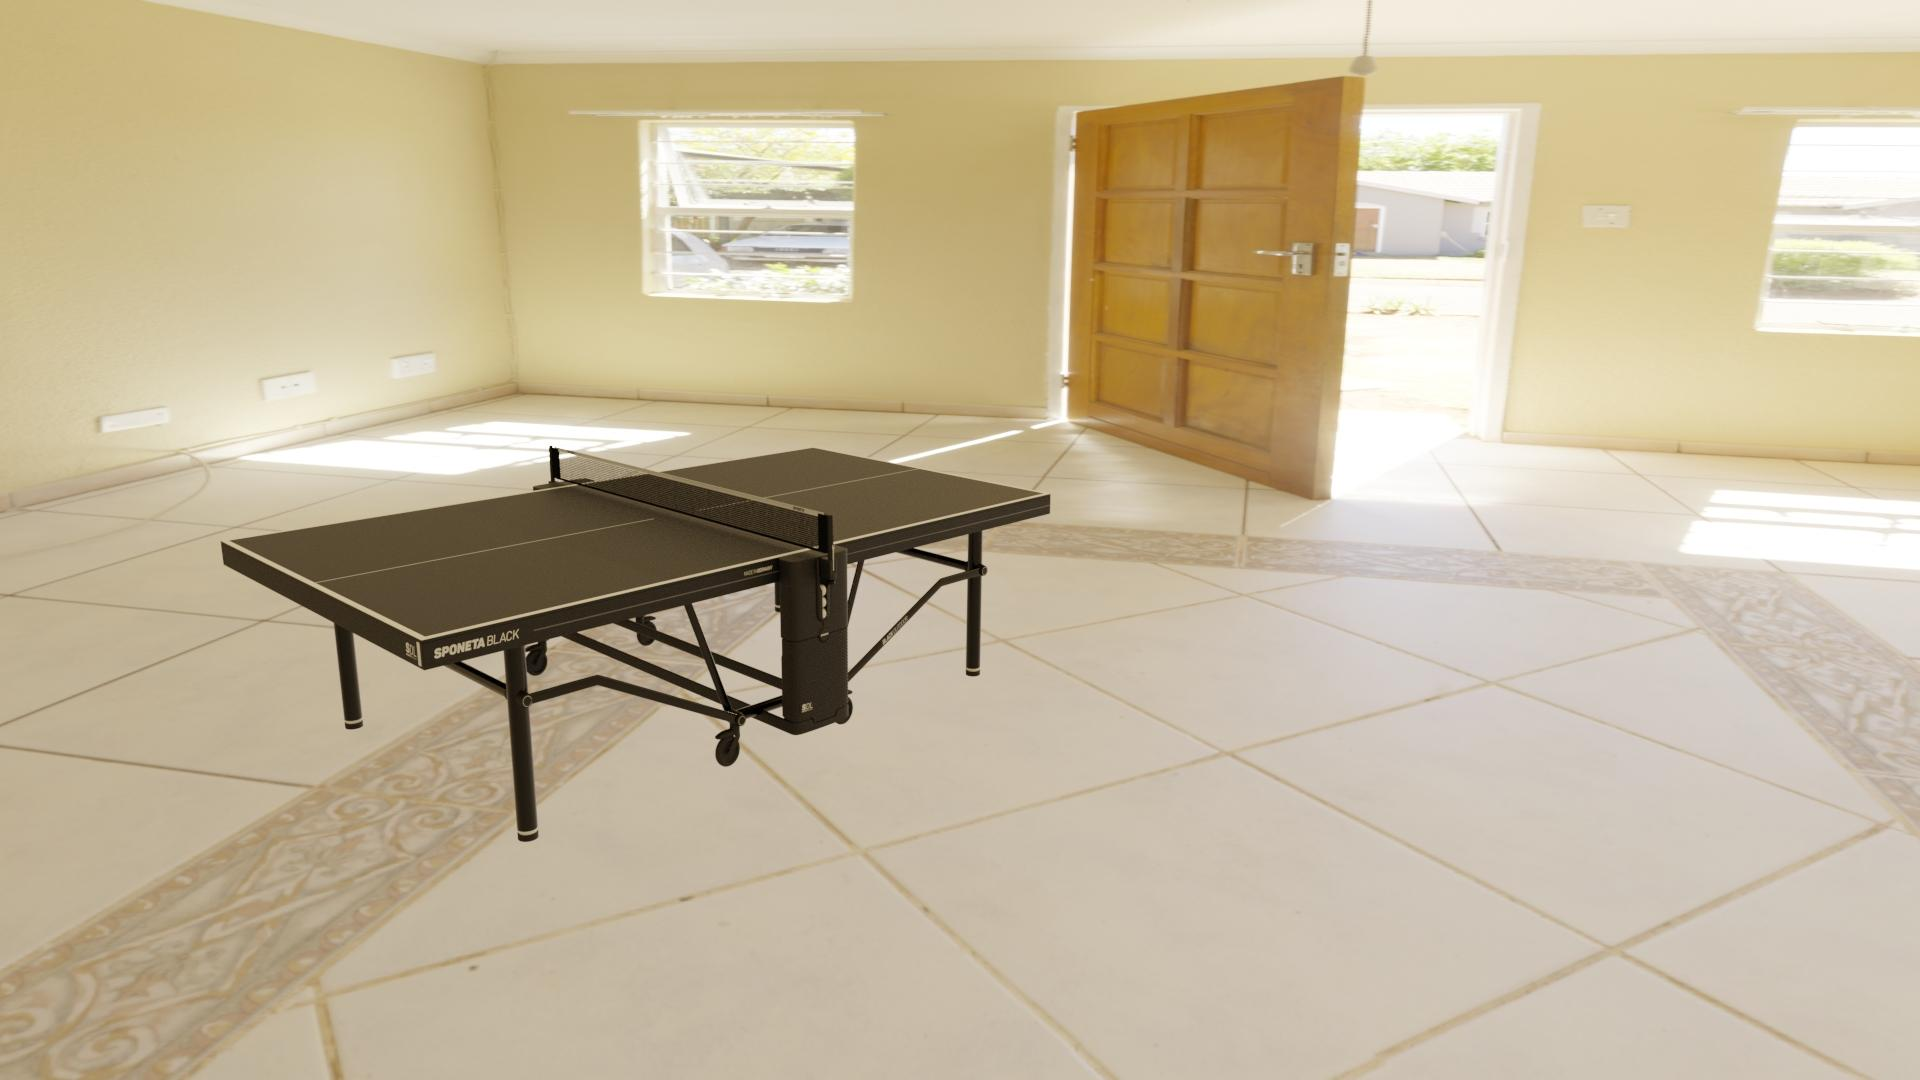table: (228, 447, 1044, 637)
